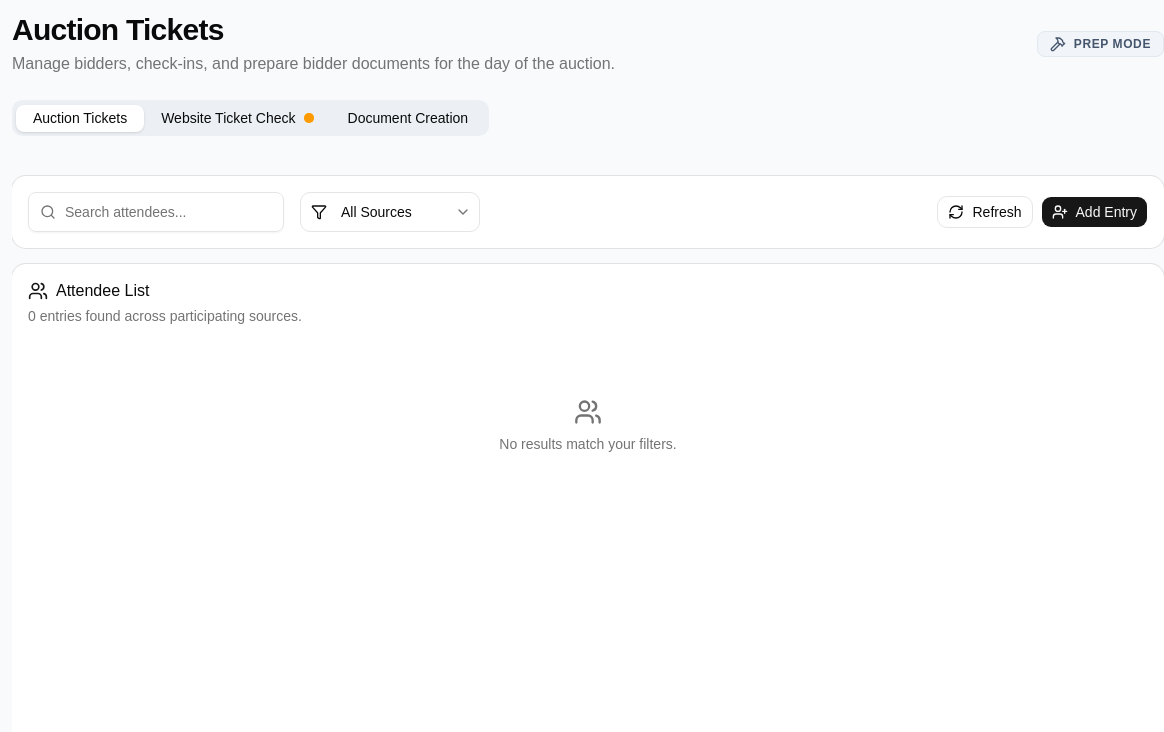
Scenario: AuctionTicketsWorkflow - Website Ticket Check tab (ROADMAP W6) › flags the tab when something needs attention, and the card is one click away
The image size is (1164, 732).
What coordinates should you click on to do the following:
click the tab named "Website Ticket Check Needs attention"
I would click on:
 (237, 118)
Its box is [144,104,331,132].
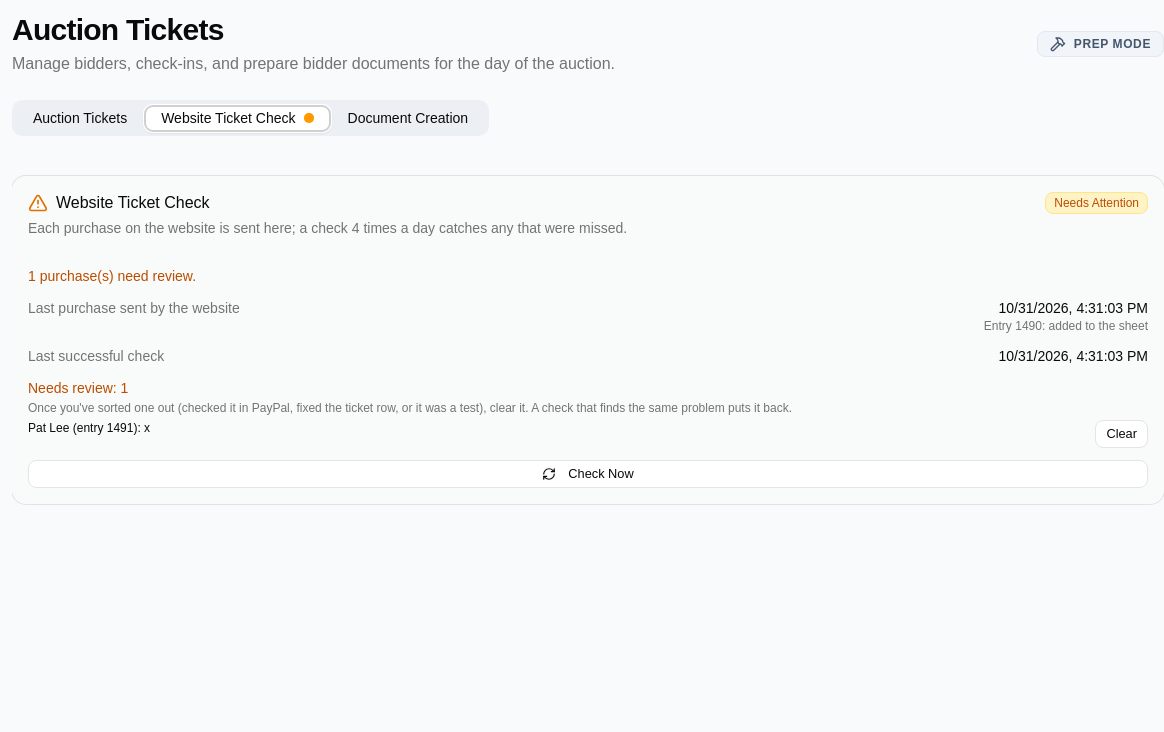
expect the text "Last purchase sent by the website" is shown: met, box [28,298,240,318]
expect the text "Pat Lee (entry 1491)" is shown: met, box [28,421,137,435]
